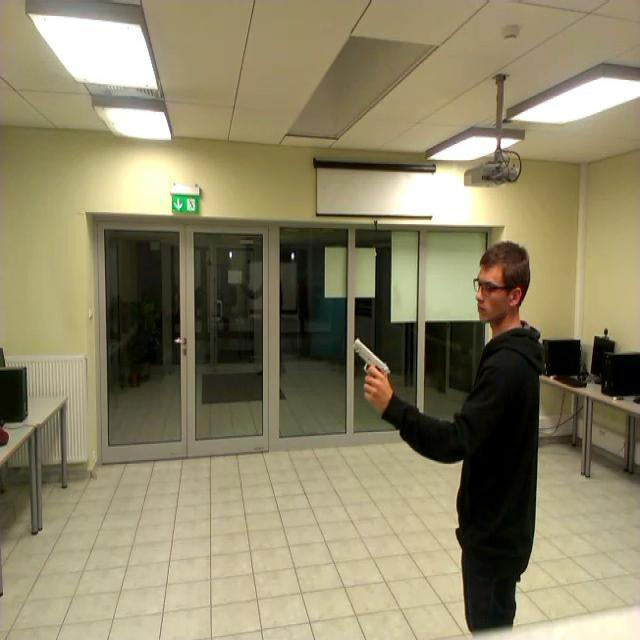weapon: (352, 340, 389, 399)
